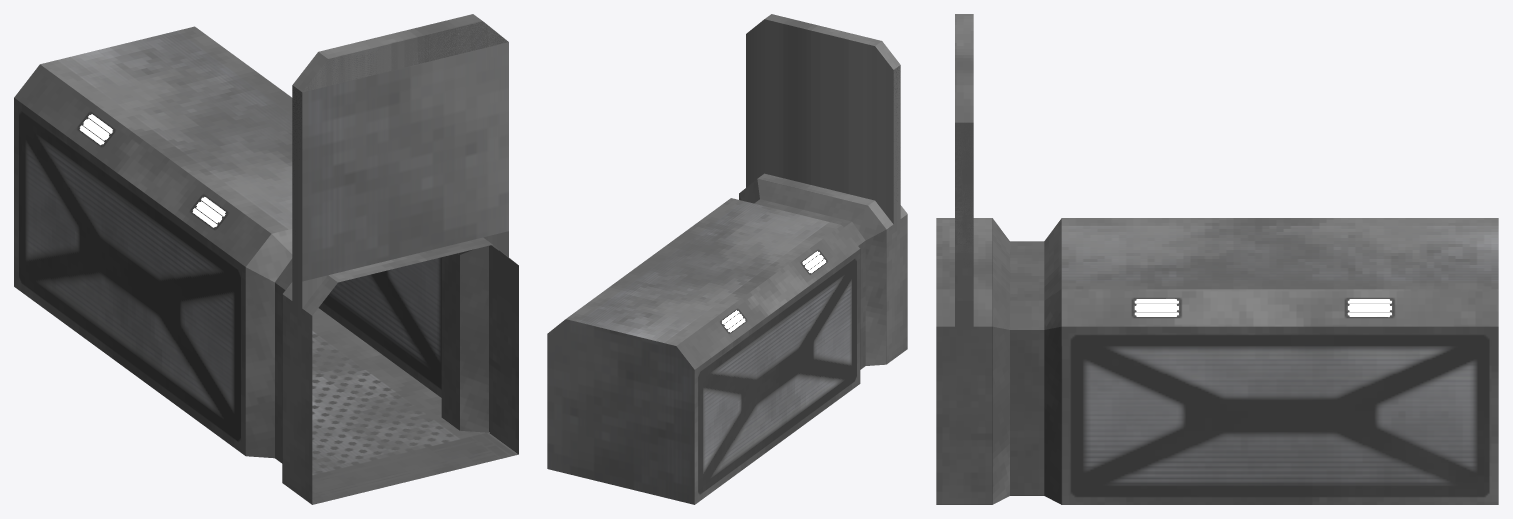
Rendered from hallway_square_tex.fbx.
The picture shows the model from 3 angles, left to right: view 1: azimuth 30°, elevation 25°; view 2: azimuth 150°, elevation 25°; view 3: azimuth 270°, elevation 25°; orthographic projection. The views are drawn at different scales.
Parts seen in each view (by area): view 1: hallway_square; view 2: hallway_square; view 3: hallway_square.
Part boxes in pixels (left/top/right/bottom): hallway_square: left=14, top=14, right=518, bottom=504; hallway_square: left=547, top=14, right=907, bottom=504; hallway_square: left=936, top=14, right=1498, bottom=504.
Bounding box in the file's own units: 400 × 800 × 1000.
1 material, 1 textured.
